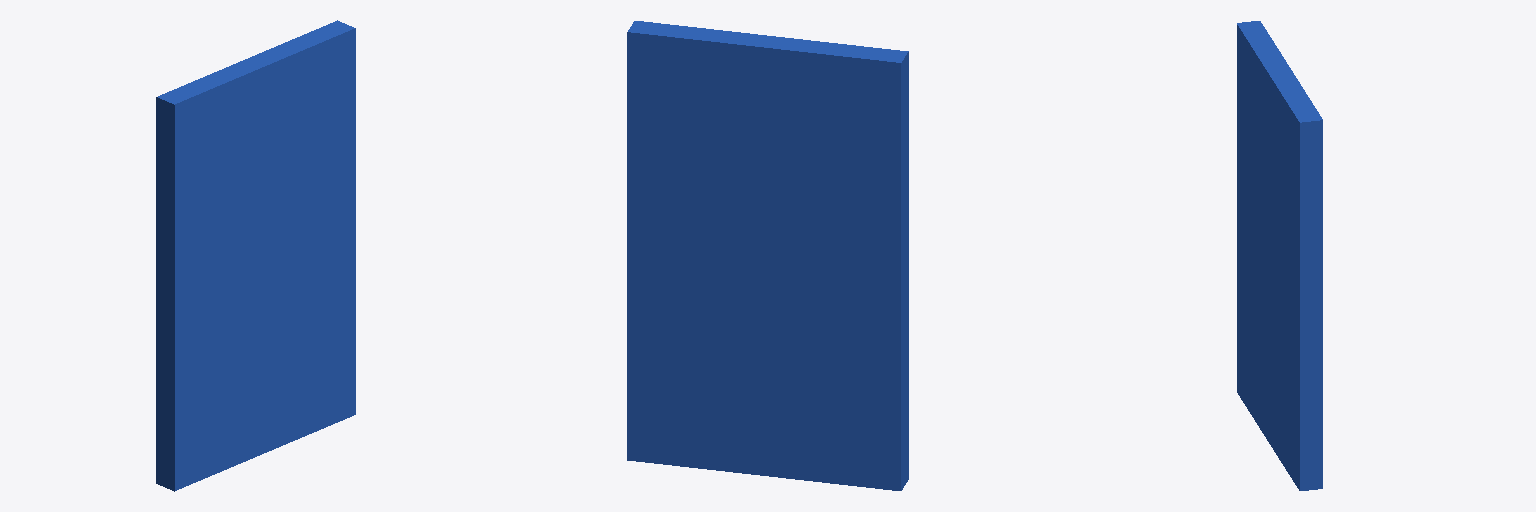
The robot description file, URDF, robot "Domino_6":
<robot name="Domino_6" version="1.0">
  <link name="Domino_6_link">
    <collision name="Cube.005_collision">
      <origin rpy="0.00000 0.00000 0.26180" xyz="-0.23924 0.67994 0.25000"/>
      <geometry>
        <box size="0.30000 0.03000 0.50000"/>
      </geometry>
    </collision>
    <inertial>
      <inertia ixx="0.00214" ixy="-0.00019" ixz="0.00000" iyy="0.00278" iyz="0.00000" izz="0.00076"/>
      <origin rpy="0.00000 0.00000 0.00000" xyz="-0.23924 0.67994 0.25000"/>
      <mass value="0.10000"/>
    </inertial>
    <visual name="Cube.005">
      <material name="turnarrow"/>
      <origin rpy="0.00000 0.00000 0.26180" xyz="-0.23924 0.67994 0.25000"/>
      <geometry>
        <mesh filename="../meshes/obj/Cube.006.obj" scale="0.96309 0.86937 1.13774"/>
      </geometry>
    </visual>
  </link>
  <material name="turnarrow">
    <color rgba="0.23137 0.44706 0.80000 1.00000"/>
  </material>
</robot>

--- Facts derived from the render (not from the file) ---
3 views of the same robot in one strip: view 1: azimuth 30°, elevation 25°; view 2: azimuth 150°, elevation 25°; view 3: azimuth 270°, elevation 25° (orthographic).
Robot: Domino_6 — 1 links, 0 joints (none); root link Domino_6_link; default pose: all joints at 0.
Links seen in each view (by area): view 1: Domino_6_link; view 2: Domino_6_link; view 3: Domino_6_link.
Boxes of the visible links, x1,y1,x2,y2 form: Domino_6_link: (156,20,355,491); Domino_6_link: (627,21,908,490); Domino_6_link: (1237,21,1322,490).
Size in the robot's own frame: 0.2975 by 0.1066 by 0.5 metres.
Meshes: 1 distinct files referenced, 1 mesh visuals loaded (1 OBJ).